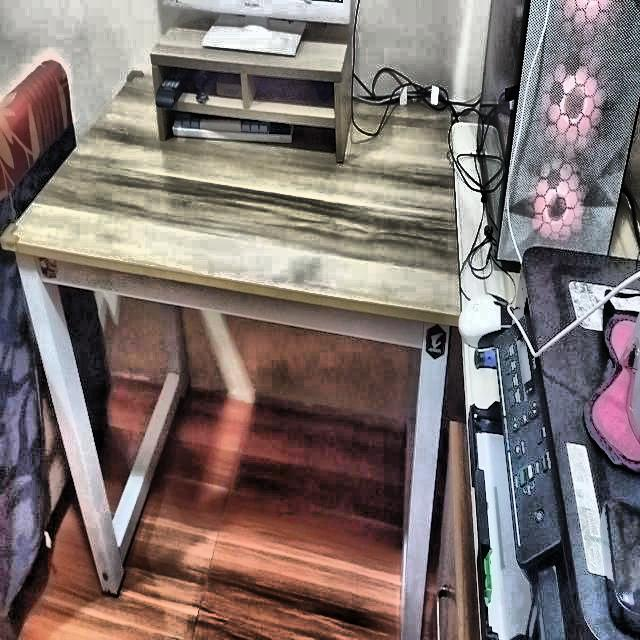mesa: (19, 65, 452, 640)
